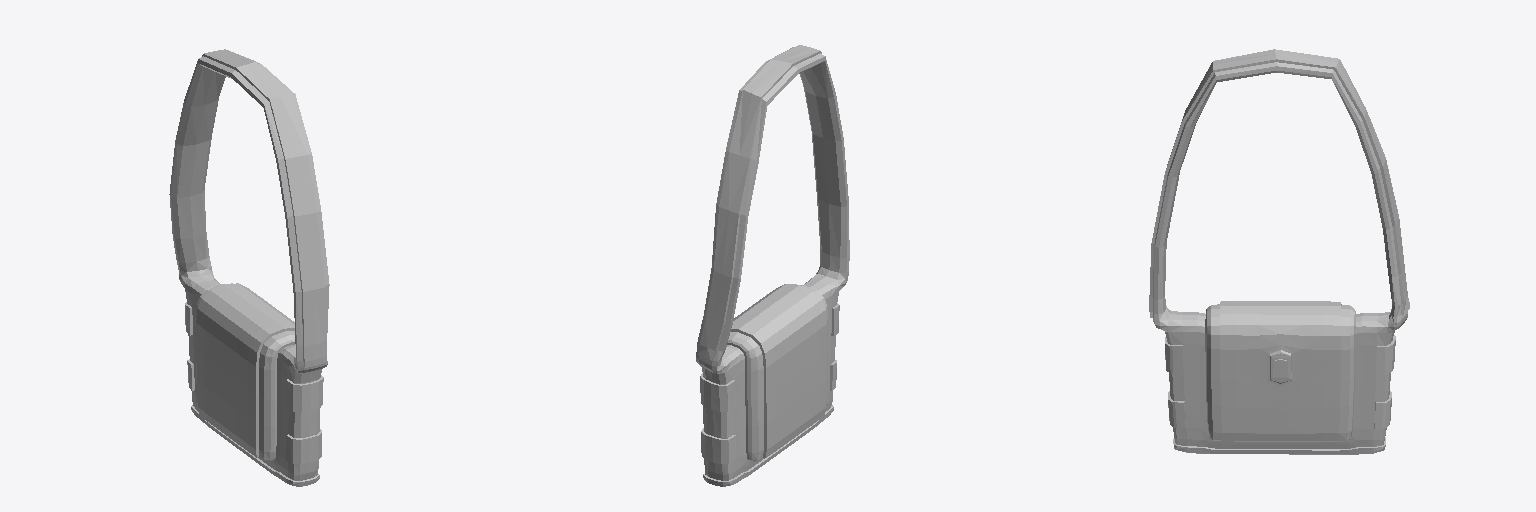
File: objBag.obj
3 renders of one model, left to right at view 1: azimuth 30°, elevation 25°; view 2: azimuth 150°, elevation 25°; view 3: azimuth 270°, elevation 25°, orthographic.
Parts seen in each view (by area): view 1: bag; view 2: bag; view 3: bag.
Boxes of the visible parts, box(x1,y1,x2,y2) form: bag: box(169, 49, 329, 486); bag: box(696, 45, 849, 486); bag: box(1149, 49, 1409, 454).
Bounding box in the file's own units: 1.06 × 6.46 × 3.9.